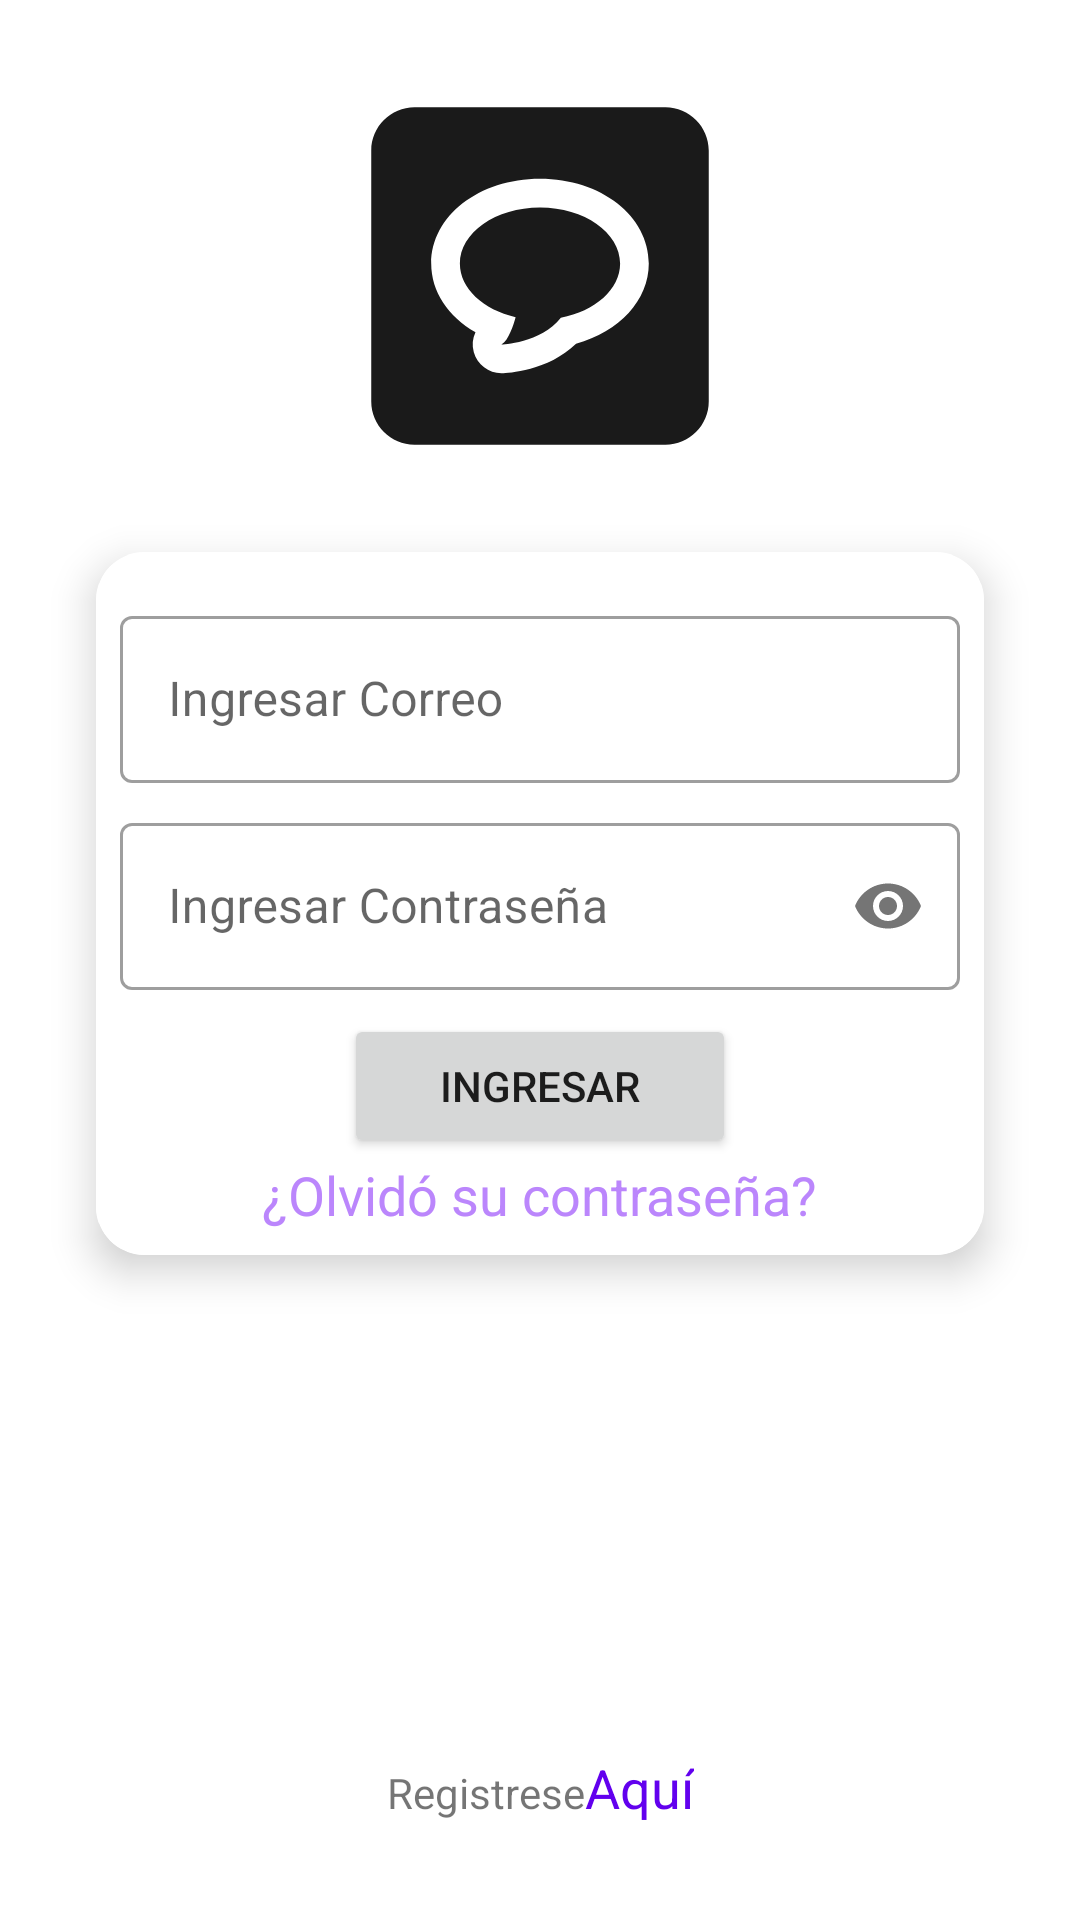

Icon click points for this 1080w x 1920h phone screenshot, format [x,y]:
chatapp: [540,276]
